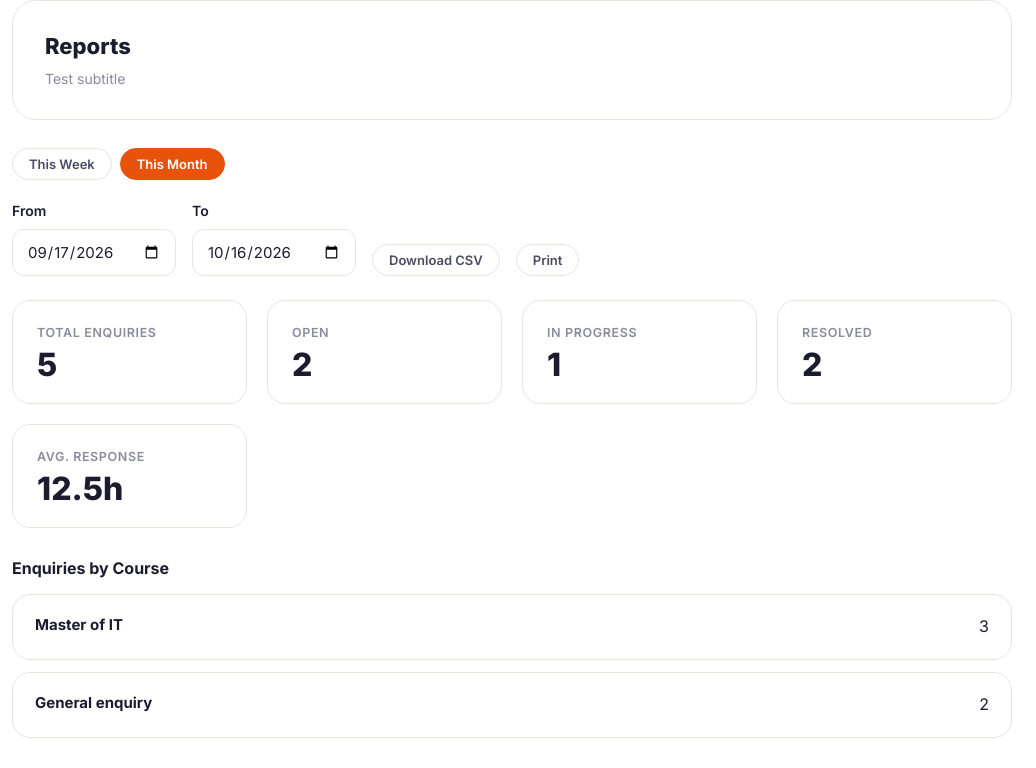
it: blocks a from date after the to date with a message and no fetch
Check: the text "5" is shown, box [37, 345, 57, 384]
Type "2999-01-01" into the date field labelled "From" at (94, 252), box [12, 229, 176, 276]
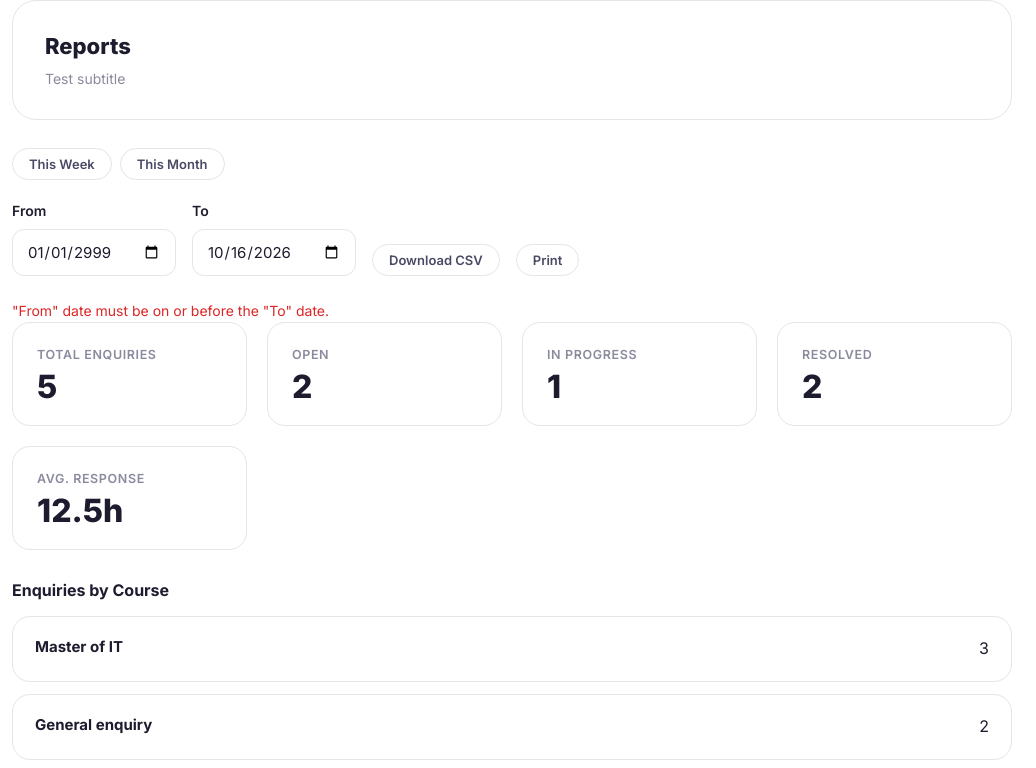
Check: the text "\"From\" date must be on or before the \"To\" date." is shown, box [12, 302, 329, 319]
